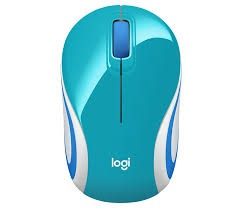mouse: (48, 1, 193, 205)
